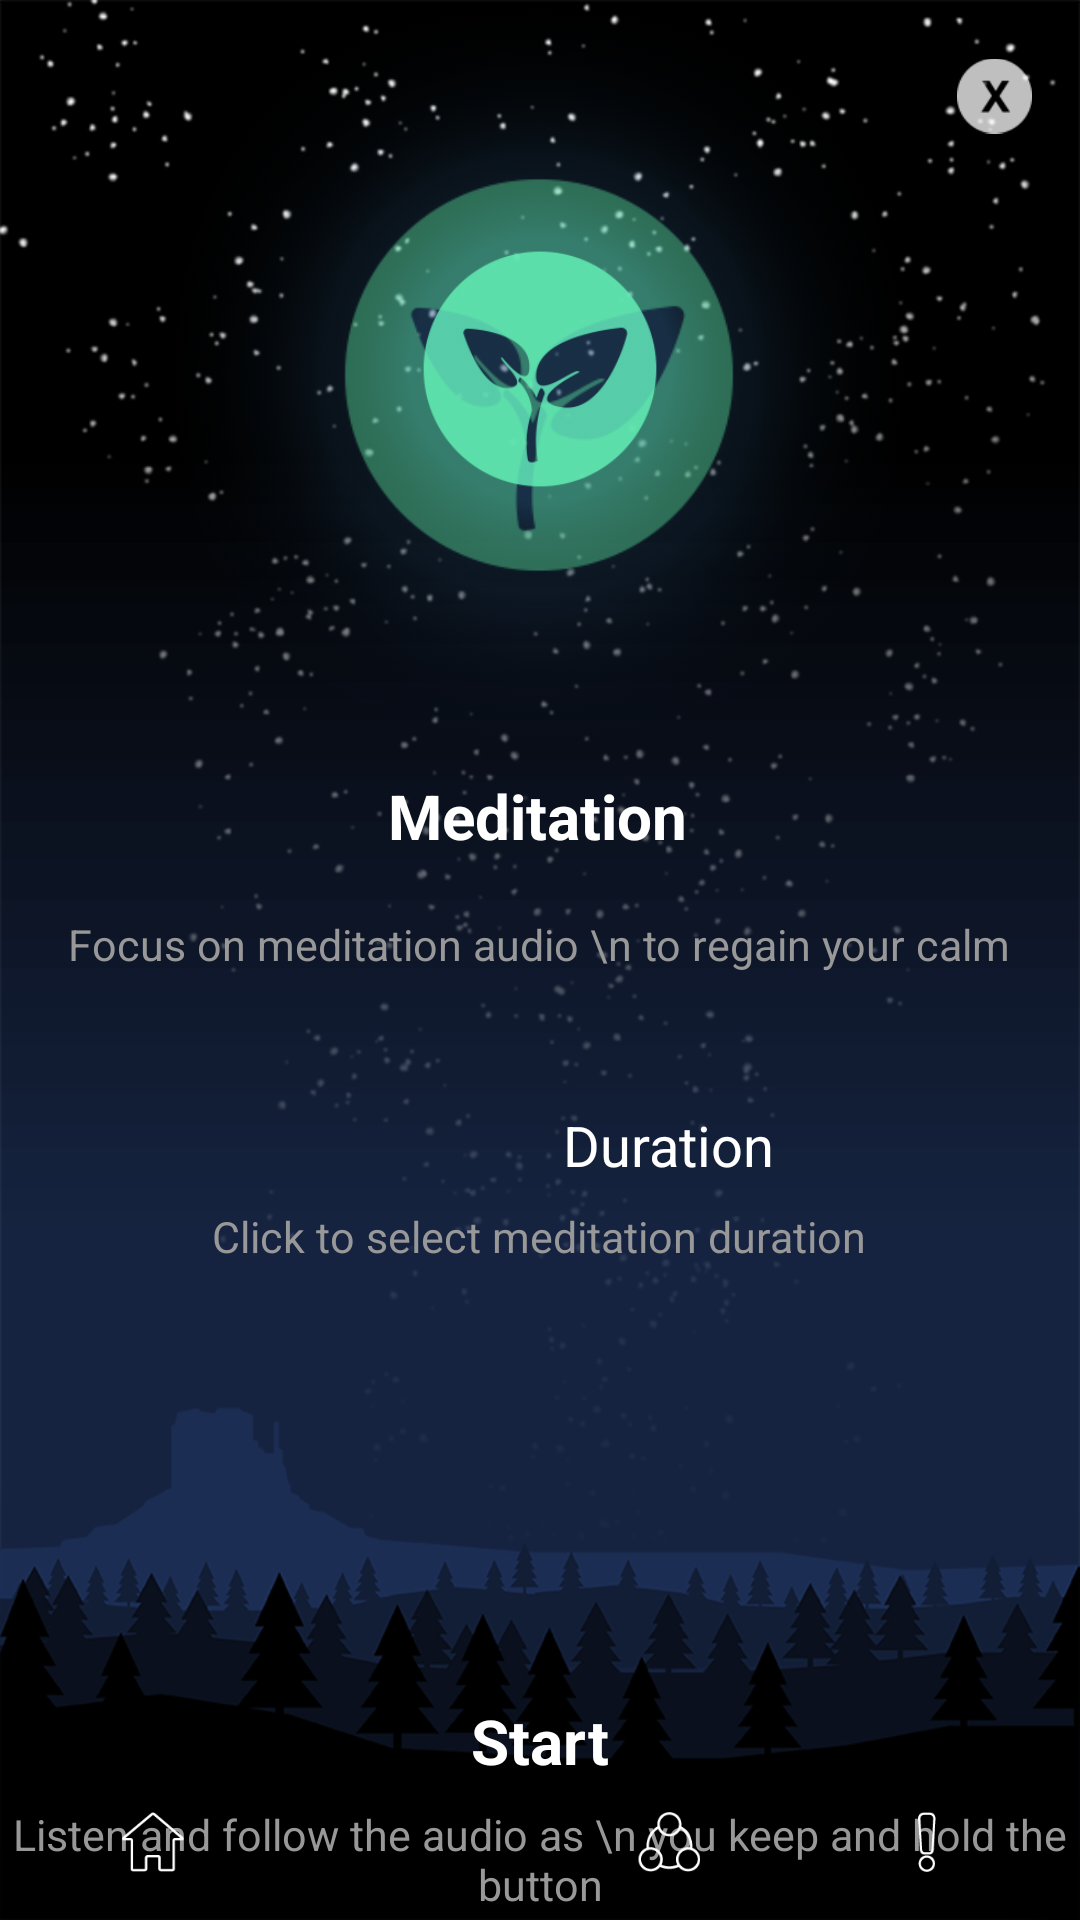

Where to tap for icons on this 1080x1920 app screen, as (x,y):
exit breathing: (994,91)
